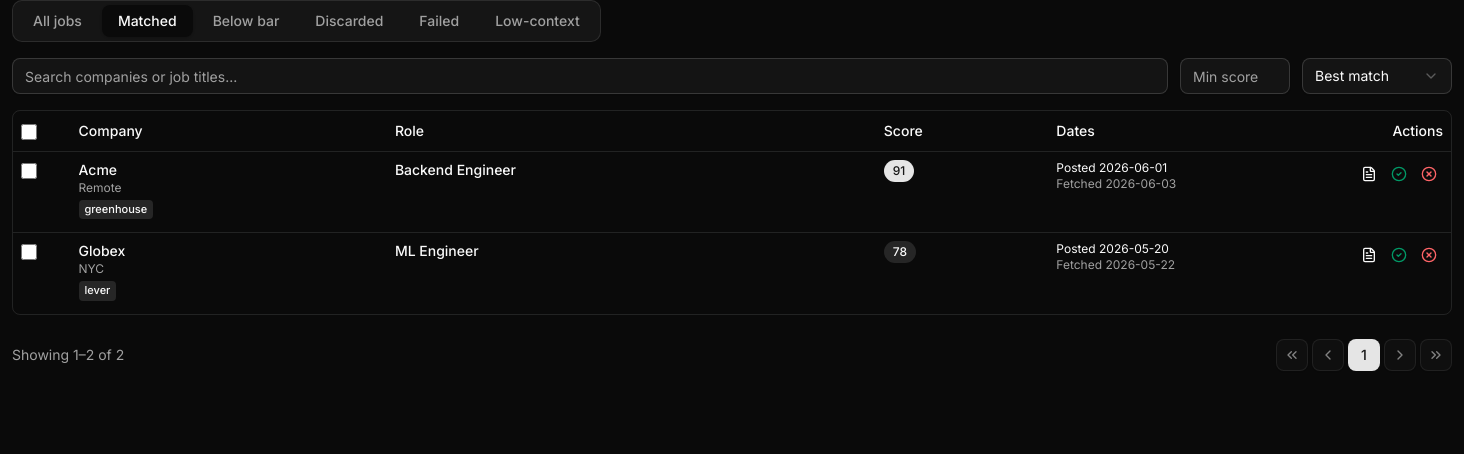
Test: DiscoveredJobsTable › select-all toggles every row on the page
The image size is (1464, 454).
Step 1. Click the checkbox named "select all" → (29, 132), box [21, 124, 37, 140]
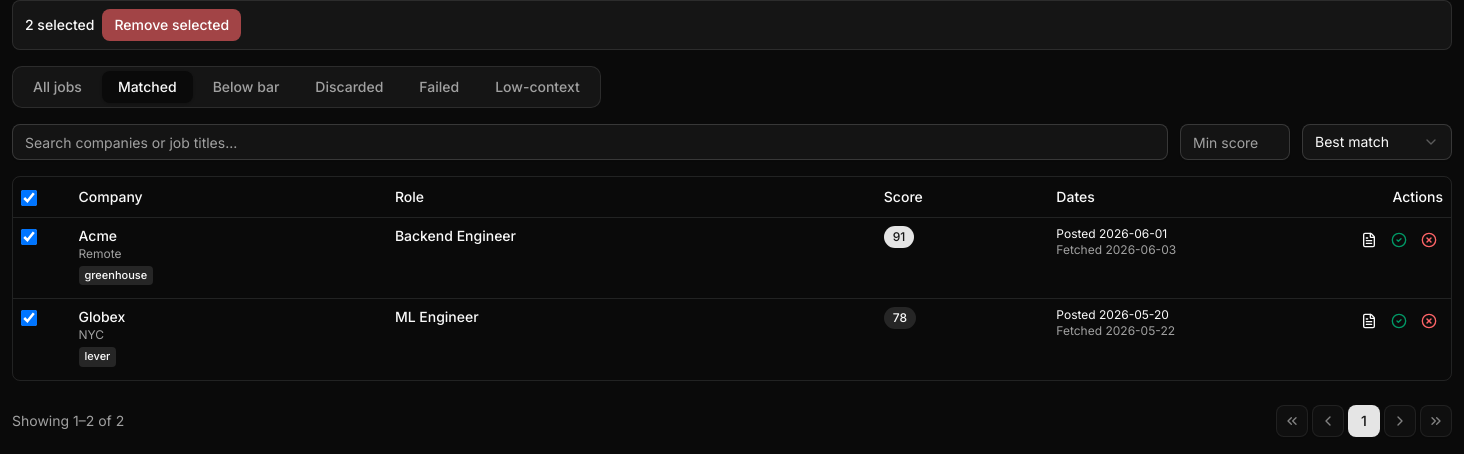
Now the text "2 selected" is shown, box [25, 15, 94, 35]
